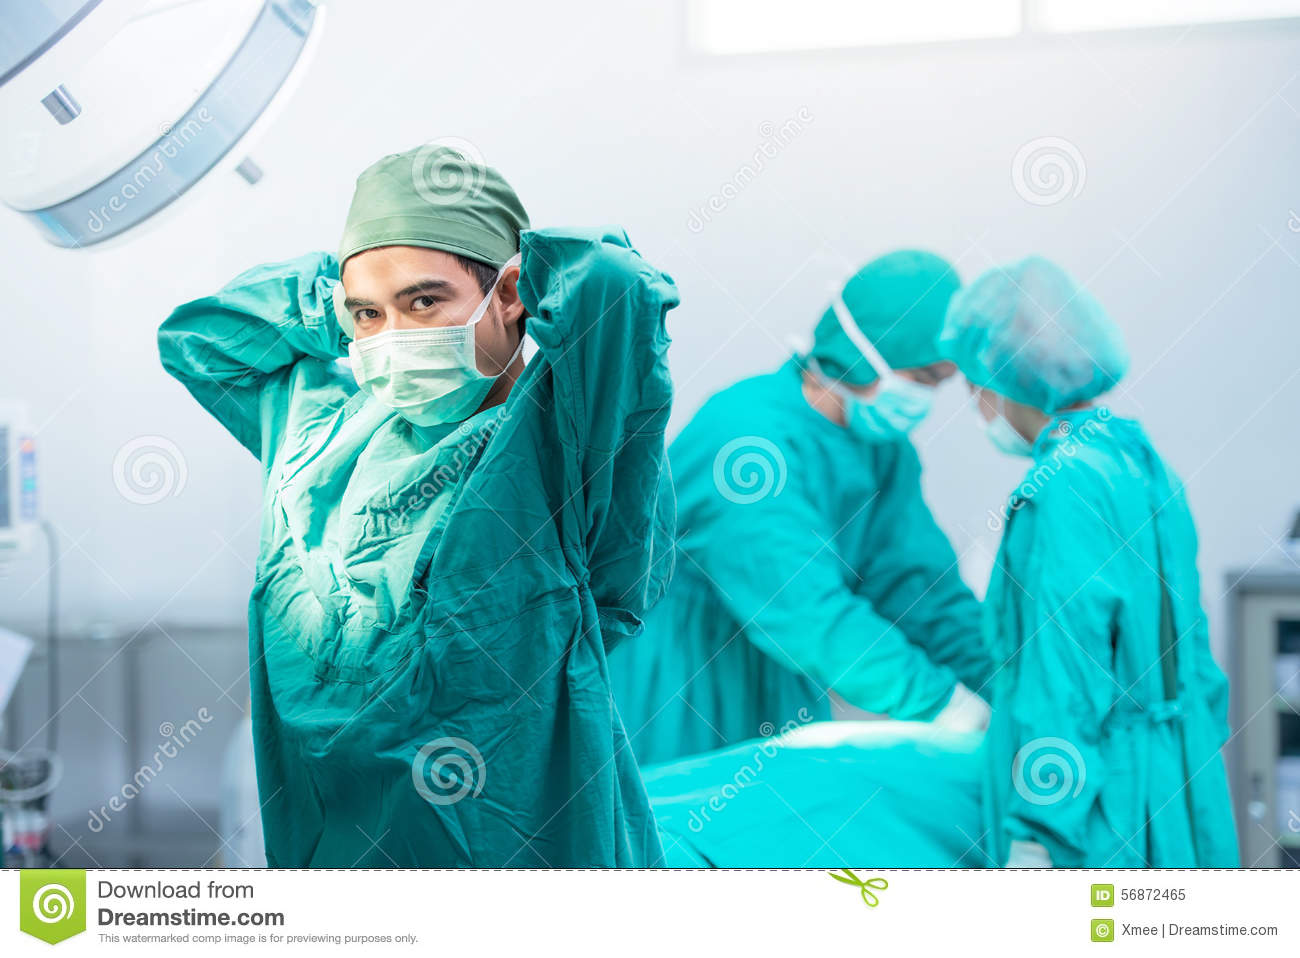mask: (342, 329, 489, 430)
